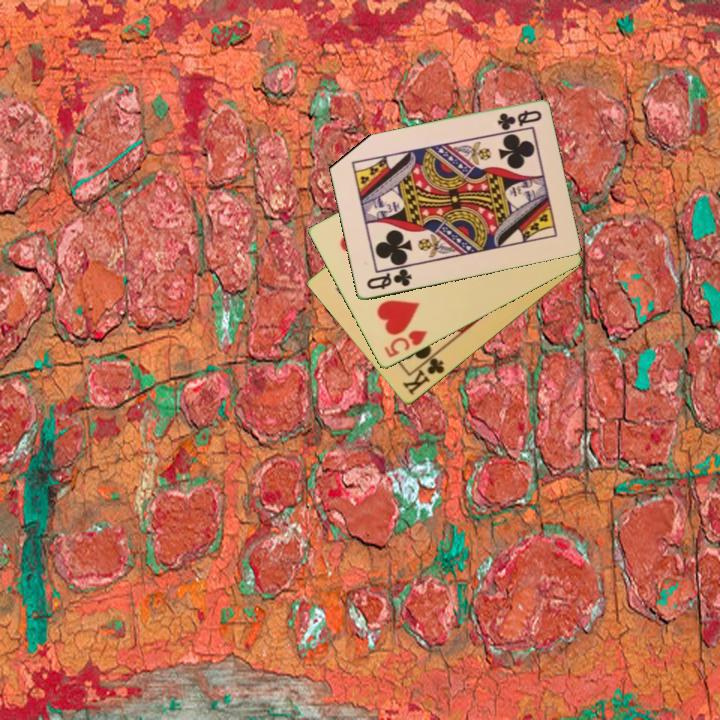5h: (380, 327, 430, 361)
Kc: (399, 349, 448, 398)
Qc: (363, 265, 415, 293), (494, 107, 544, 132)
